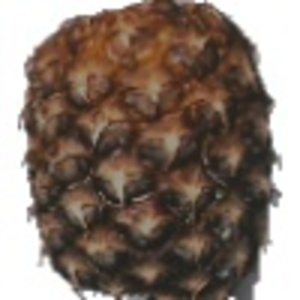abacaxi: (14, 3, 284, 295)
